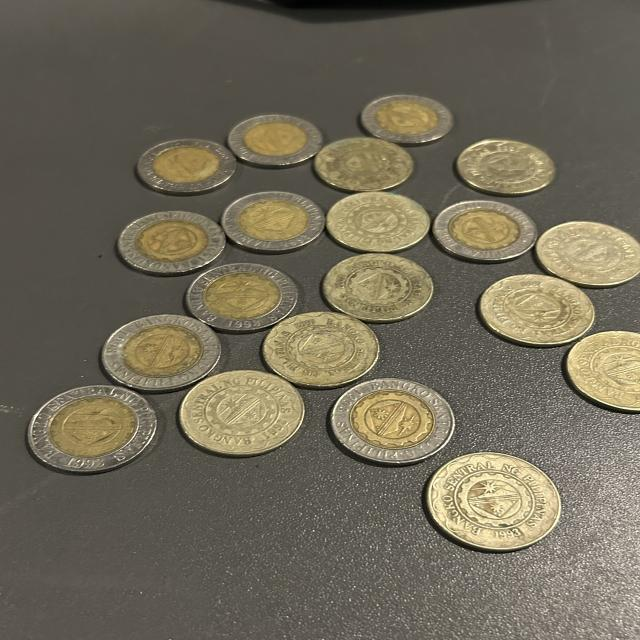10_Old_Back: (27, 387, 162, 473), (328, 379, 457, 464), (184, 264, 298, 333)
5_Old_Back: (424, 451, 568, 553), (178, 370, 304, 458)
